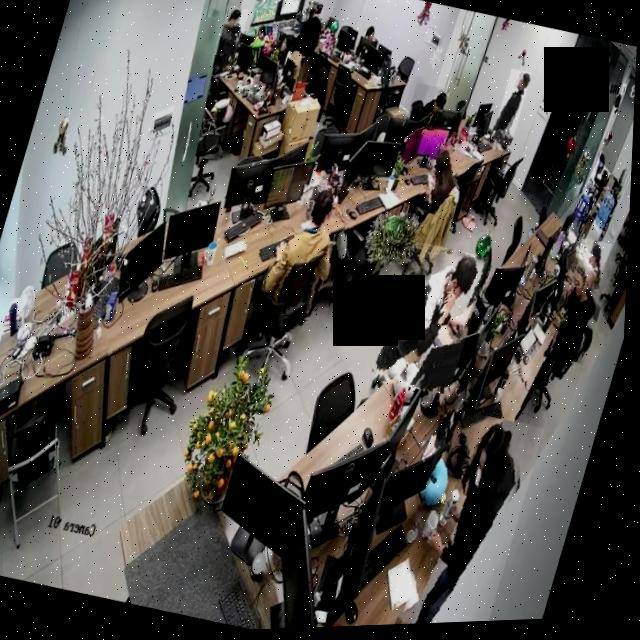person: (384, 408, 549, 628), (377, 242, 492, 403), (257, 180, 362, 328), (546, 265, 613, 371), (416, 142, 471, 222), (283, 0, 332, 85), (492, 71, 532, 149), (209, 6, 250, 74), (404, 84, 451, 142), (568, 240, 614, 298)
